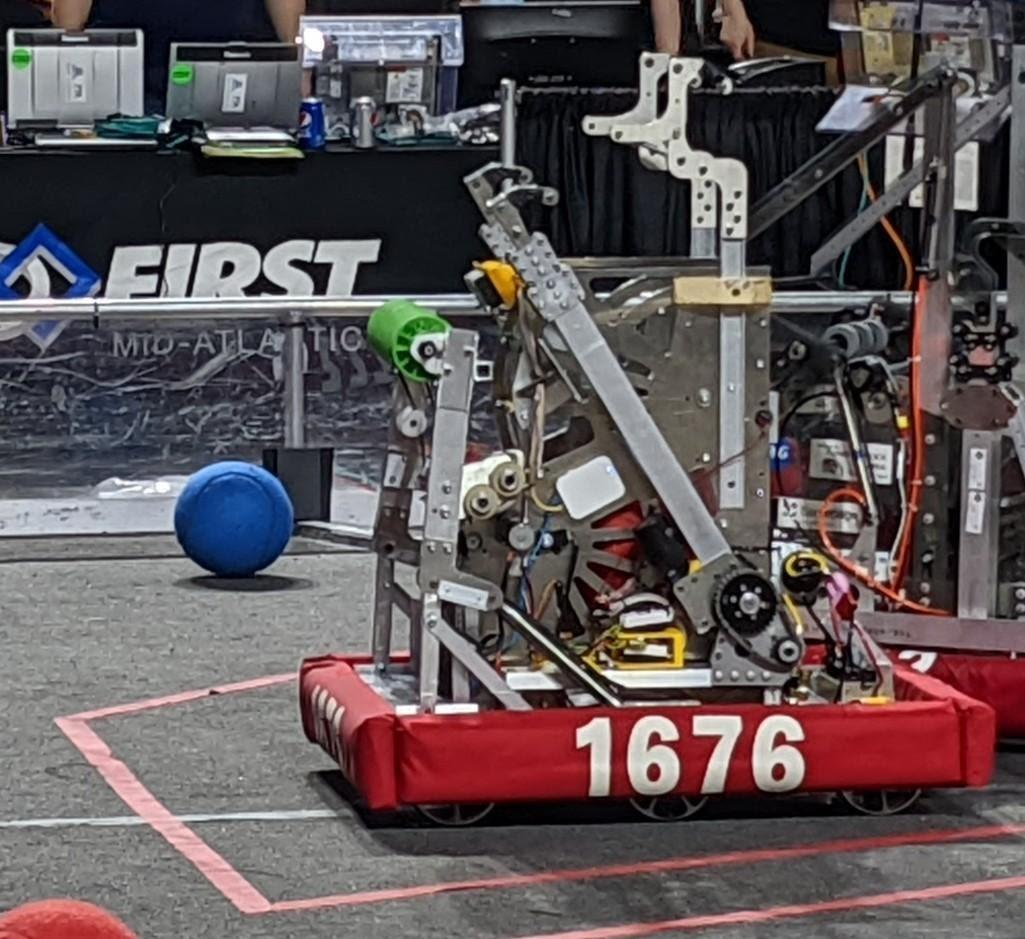robot: (280, 150, 1001, 824), (520, 46, 1025, 754)
